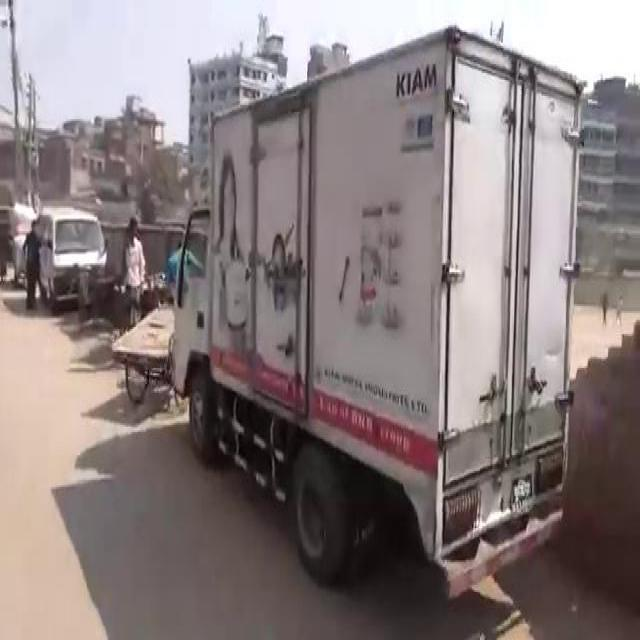vehicle: (162, 19, 582, 584), (32, 198, 111, 312)
